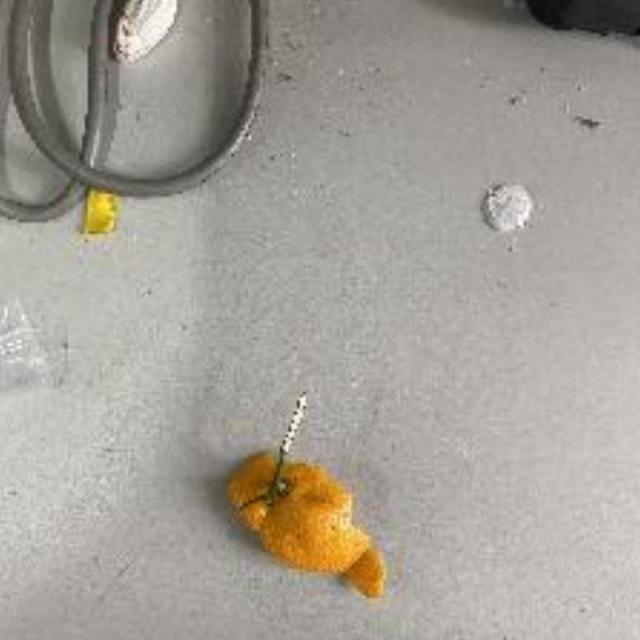orange-peel: (230, 396, 388, 604)
